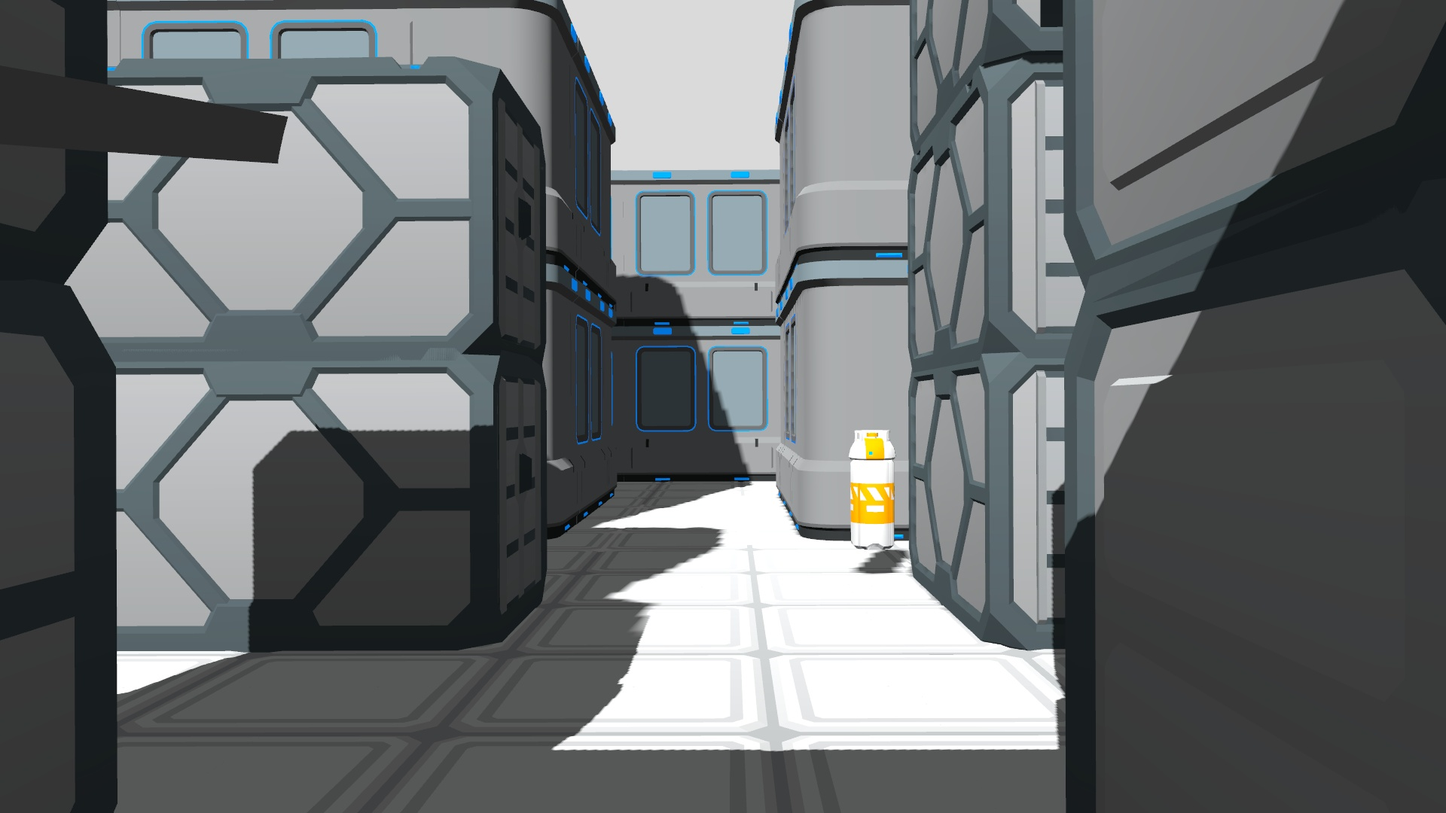yellow_barrel: (845, 425, 900, 555)
